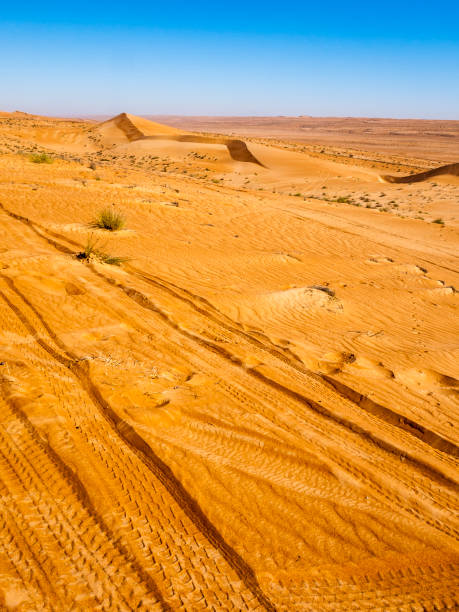vehicle_track: (0, 288, 274, 610), (126, 264, 458, 456)
